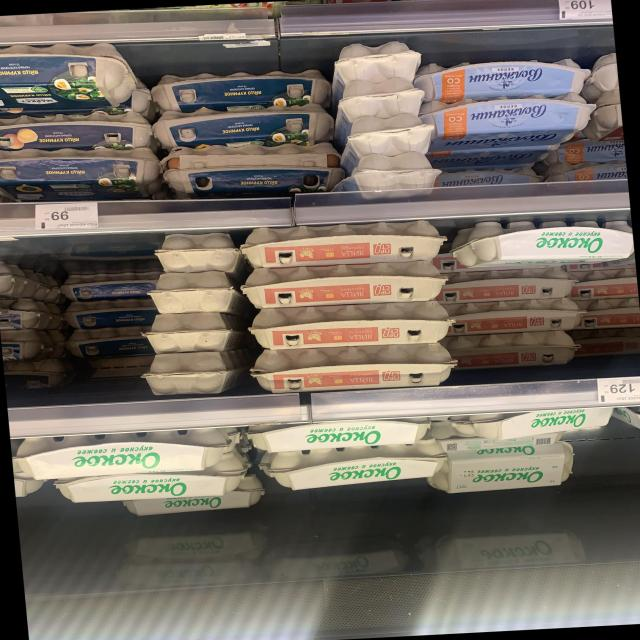organic waste: (237, 218, 448, 274), (14, 428, 234, 480), (249, 343, 460, 396), (242, 258, 450, 311), (161, 140, 344, 200), (246, 300, 454, 352), (0, 38, 137, 116), (0, 141, 163, 204), (450, 216, 632, 270), (151, 66, 330, 117), (265, 444, 448, 493), (154, 105, 336, 153), (243, 411, 434, 455), (58, 462, 248, 504), (435, 444, 580, 499), (0, 109, 155, 155), (452, 329, 582, 373), (443, 265, 578, 307), (449, 296, 583, 337), (356, 151, 443, 199), (348, 111, 435, 159), (339, 73, 426, 121), (149, 271, 236, 315), (149, 311, 234, 355), (152, 232, 242, 273), (152, 352, 226, 397), (67, 298, 159, 332), (63, 272, 158, 302)
